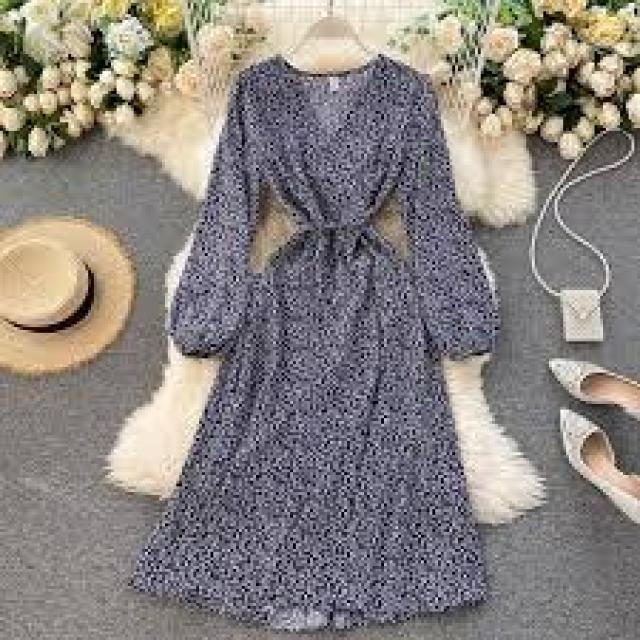dress: (174, 59, 504, 612)
